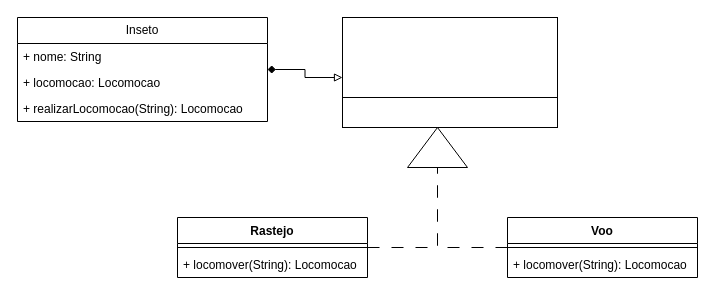
This 715x298 diagram has some shape labels left out. Each missing label, with the centre of its shape:
"+locomover(String)" belongs at (450,112).
"«interface» Locomocao" belongs at (450,57).
